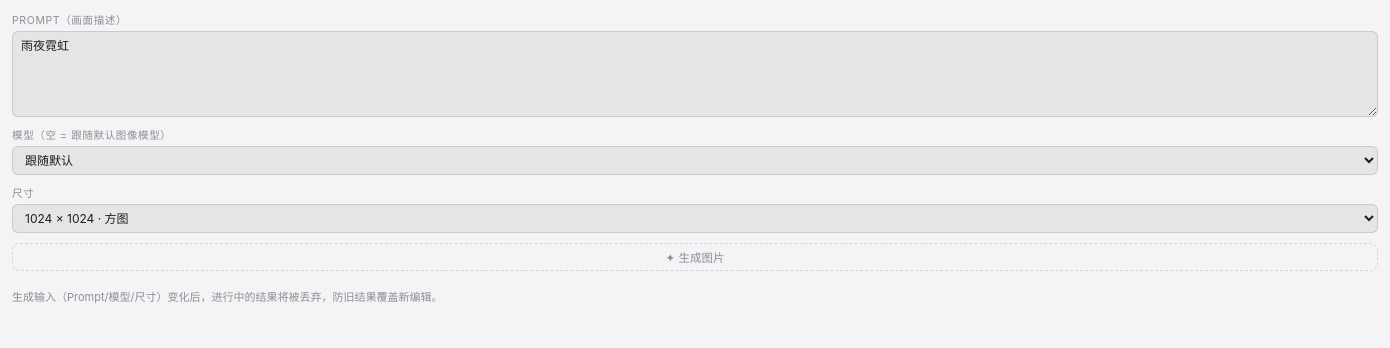
Test: 图片节点 ⚙️ 表单（§13 文生图） › 浏览器预览（无 IPC）下点生成：给出明确失败文案，不静默
This screenshot has width=1390, height=348.
Click the button "✦ 生成图片". click: (695, 257)
box: [12, 243, 1378, 271]
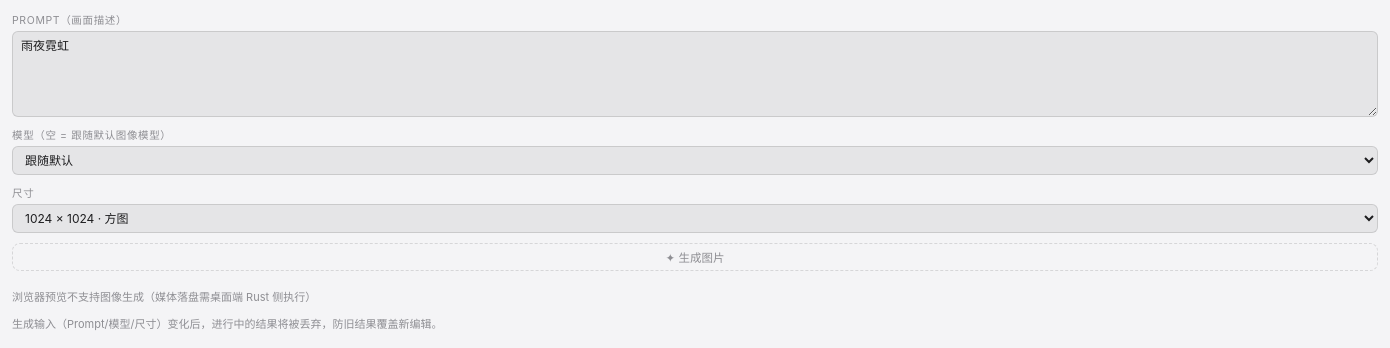
Expected: the text "浏览器预览不支持图像生成（媒体落盘需桌面端 Rust 侧执行）" is shown, [12, 290, 316, 304]
